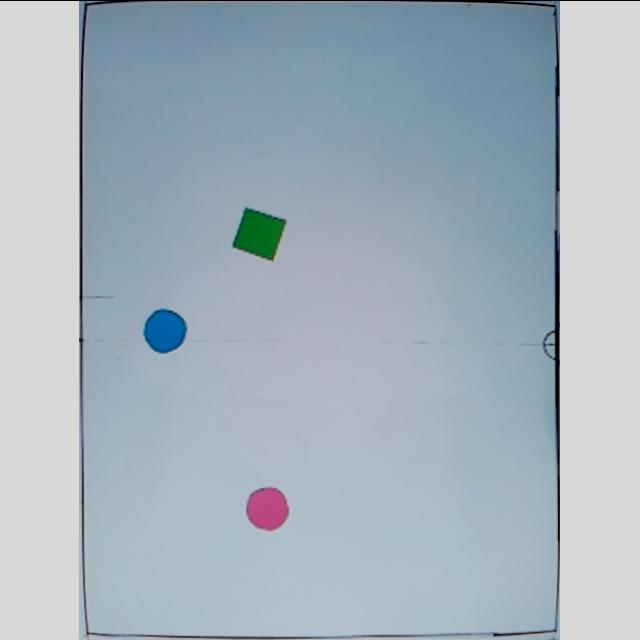blueCircle: (144, 307, 190, 355)
greenSquare: (231, 205, 291, 261)
pinkCircle: (245, 484, 293, 532)
